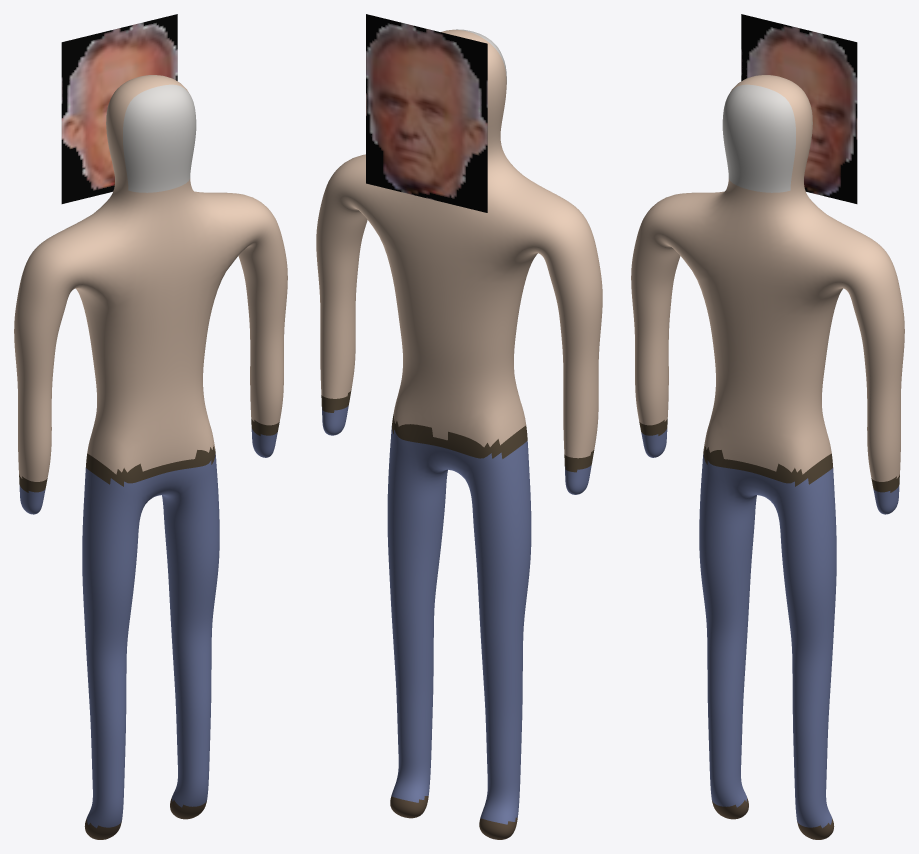
File: friend.glb
The picture shows the model from 3 angles, left to right: view 1: azimuth 30°, elevation 25°; view 2: azimuth 150°, elevation 25°; view 3: azimuth 330°, elevation 25°; orthographic projection. The views are drawn at different scales.
Parts seen in each view (by area): view 1: friend; view 2: friend; view 3: friend.
Boxes of the visible parts, x1=… form: friend: x1=14, y1=14, x2=287, y2=839; friend: x1=316, y1=14, x2=602, y2=839; friend: x1=631, y1=14, x2=904, y2=839.
Size of the model in its own units: 0.6855 by 1.93 by 0.2433.
Materials: 6 (1 with a texture image).
